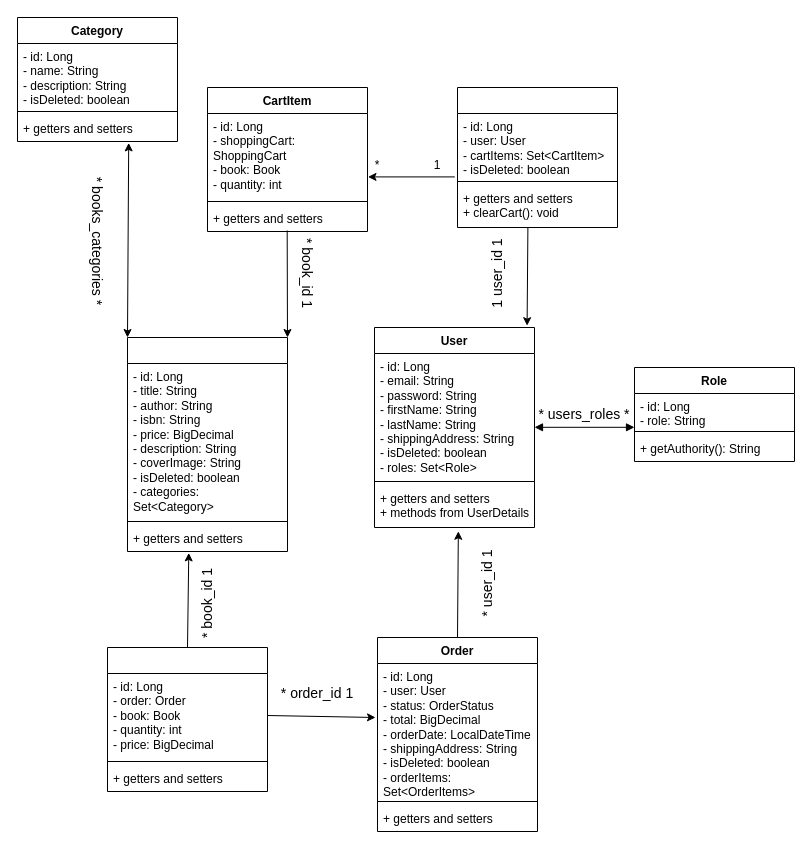
Image size: 812x852. Some labels were removed from this diagram. The shapes that lost their labels are listed below. From the top down, each one's box as (x1, y1, x2, y2) in pixels, then its label:
(456, 86, 618, 228): ShoppingCart
(126, 336, 288, 552): Book
(106, 646, 268, 792): OrderItem
